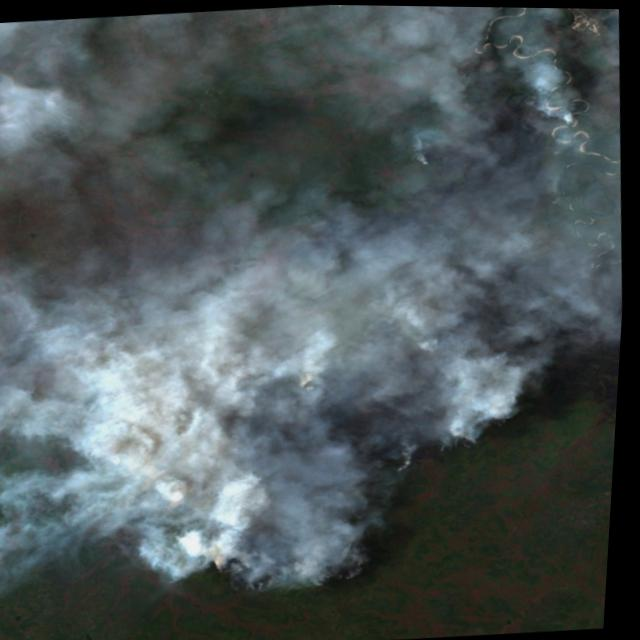fire: (60, 334, 546, 614)
